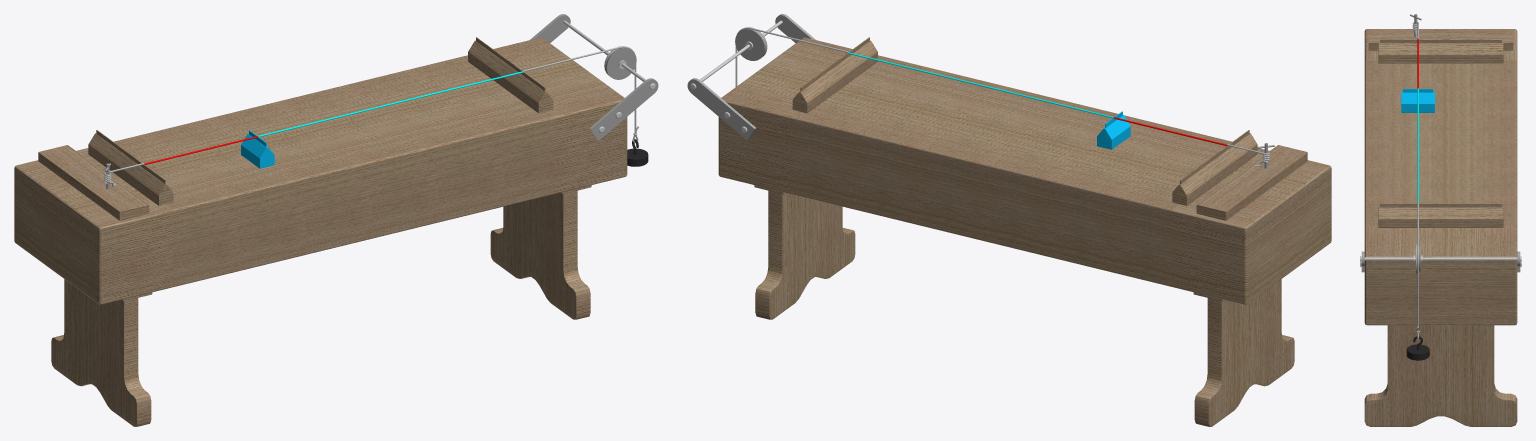
The model's file is monochord.gltf.
3 views of the same model, side by side, from view 1: azimuth 30°, elevation 25°; view 2: azimuth 150°, elevation 25°; view 3: azimuth 270°, elevation 25° (orthographic). The views are drawn at different scales.
Visible parts, largest first — view 1: middle_part, start_part, end_part, leg_1, leg_2, box_1, brige_end, brige_start, holder_2, Bridge1, gear_1, Chord12; view 2: middle_part, start_part, end_part, leg_1, leg_2, box_1, brige_end, brige_start, holder_1, Bridge1, gear_1, Chord12; view 3: middle_part, end_part, leg_2, brige_start, brige_end, box_1, Bridge1, start_part, axis_1, weight1, chord_D, Chord12.
Boxes of the visible parts, x1,y1,x2,y2 form: middle_part: (113,55,553,286); start_part: (14,148,173,304); end_part: (493,37,627,194); leg_1: (51,279,151,426); leg_2: (490,190,590,319); box_1: (38,145,149,220); brige_end: (468,37,553,113); brige_start: (88,130,173,205); holder_2: (589,78,658,140); Bridge1: (241,130,274,168); gear_1: (604,46,636,79); Chord12: (258,71,523,137); middle_part: (792,55,1232,286); start_part: (1172,148,1331,304); end_part: (718,37,852,194); leg_1: (1194,279,1294,426); leg_2: (755,190,855,319); box_1: (1196,145,1307,220); brige_end: (792,37,877,113); brige_start: (1172,130,1257,205); holder_1: (687,78,756,140); Bridge1: (1097,111,1130,149); gear_1: (735,27,767,60); Chord12: (848,52,1113,118); middle_part: (1364,60,1517,225); end_part: (1364,224,1517,325); leg_2: (1364,325,1517,426); brige_start: (1378,39,1503,63); brige_end: (1378,203,1503,227); box_1: (1368,29,1513,50); Bridge1: (1401,89,1434,112); start_part: (1364,29,1517,61); axis_1: (1360,256,1521,261); weight1: (1406,344,1429,360); chord_D: (1416,202,1419,339); Chord12: (1417,88,1418,202).
Size of the model in its own units: 0.7745 by 0.313 by 0.212.
8 materials, 1 textured.
